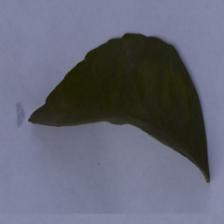greening: (87, 50, 183, 124)
